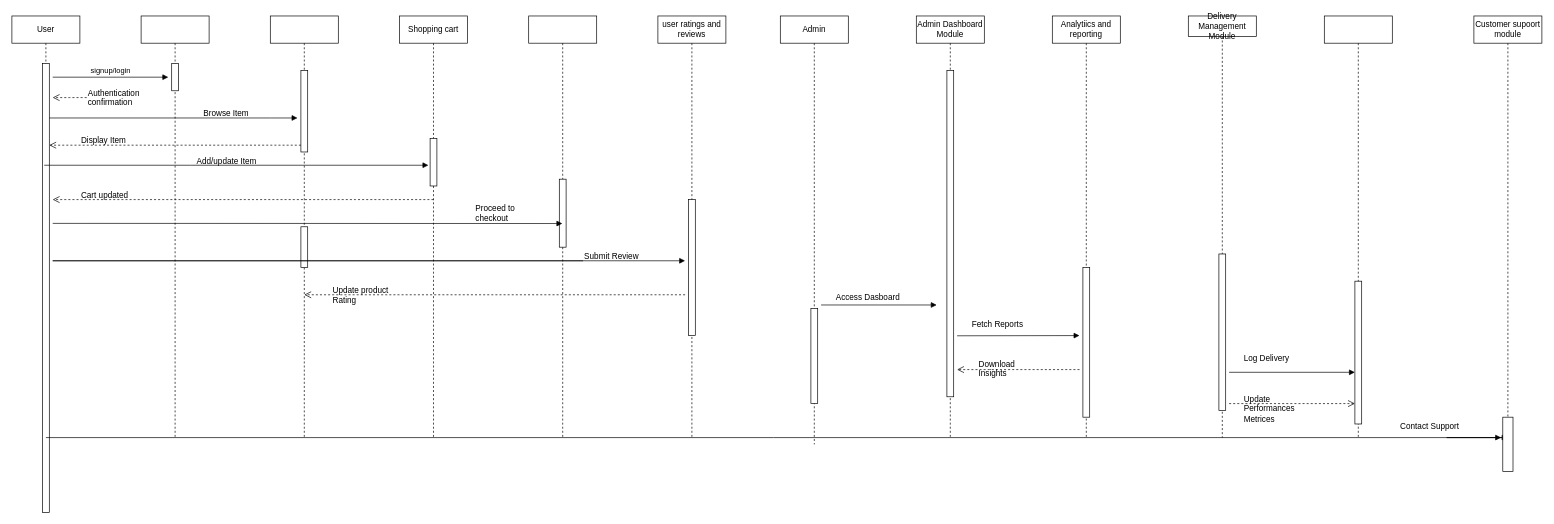
Image size: 1554x524. Some labels were removed from this diagram. The shapes that lost their labels are listed below. From the top down, each one's box as (x1, y1, x2, y2) in pixels, then its label:
(140, 15, 209, 438): Registration
(270, 15, 338, 438): Product management
(528, 15, 597, 438): Checkout
(1324, 15, 1392, 438): Delivery proof and Performance monitorinfg
